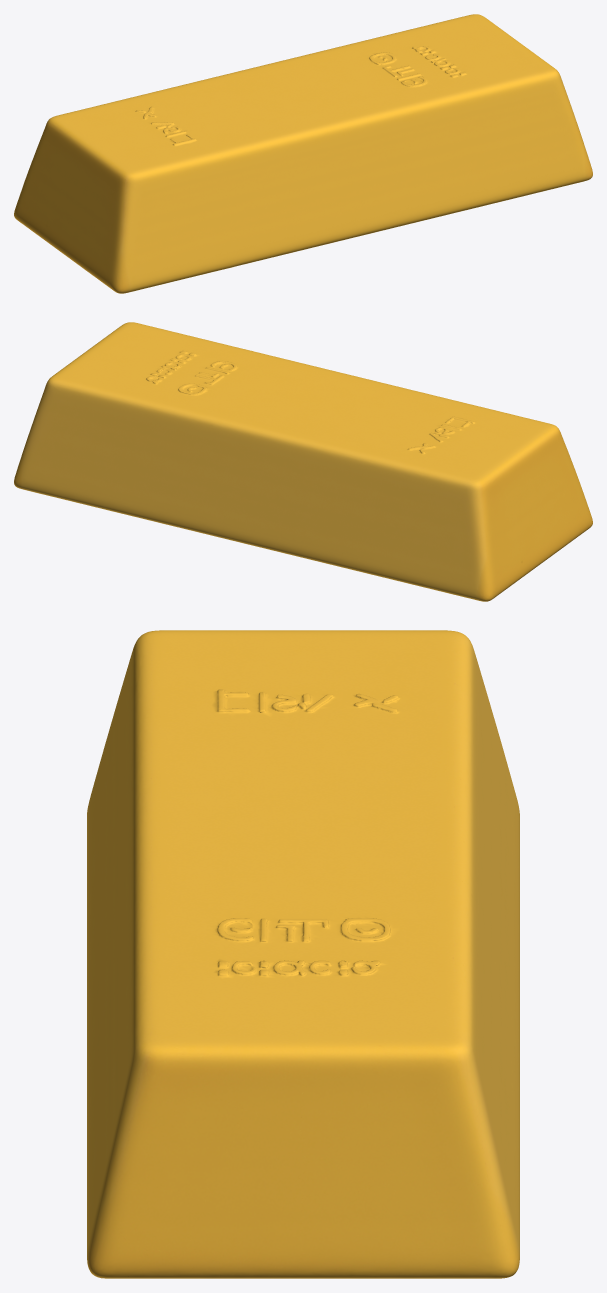
The model's file is gold-bar.glb.
3 renders of one model, top to bottom at view 1: azimuth 30°, elevation 25°; view 2: azimuth 150°, elevation 25°; view 3: azimuth 270°, elevation 25°, orthographic. The views are drawn at different scales.
Size of the model in its own units: 2 by 0.4297 by 0.7833.
1 material, 1 textured.
